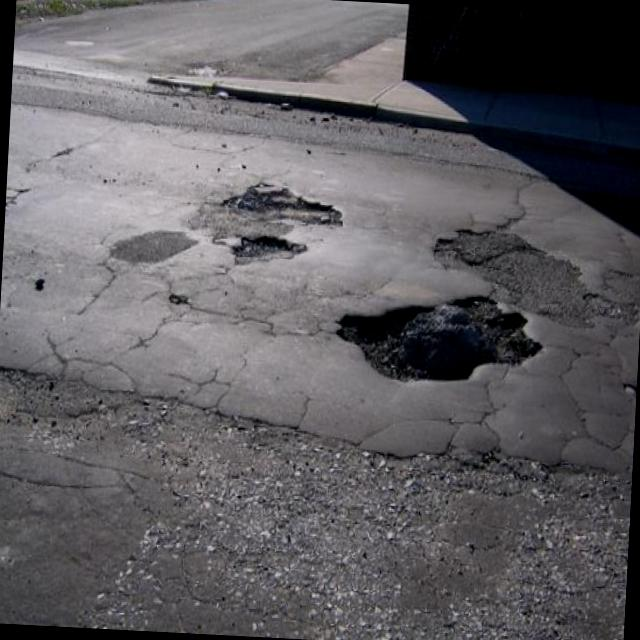pothole: (330, 280, 548, 391), (221, 170, 354, 230), (230, 224, 308, 266)
